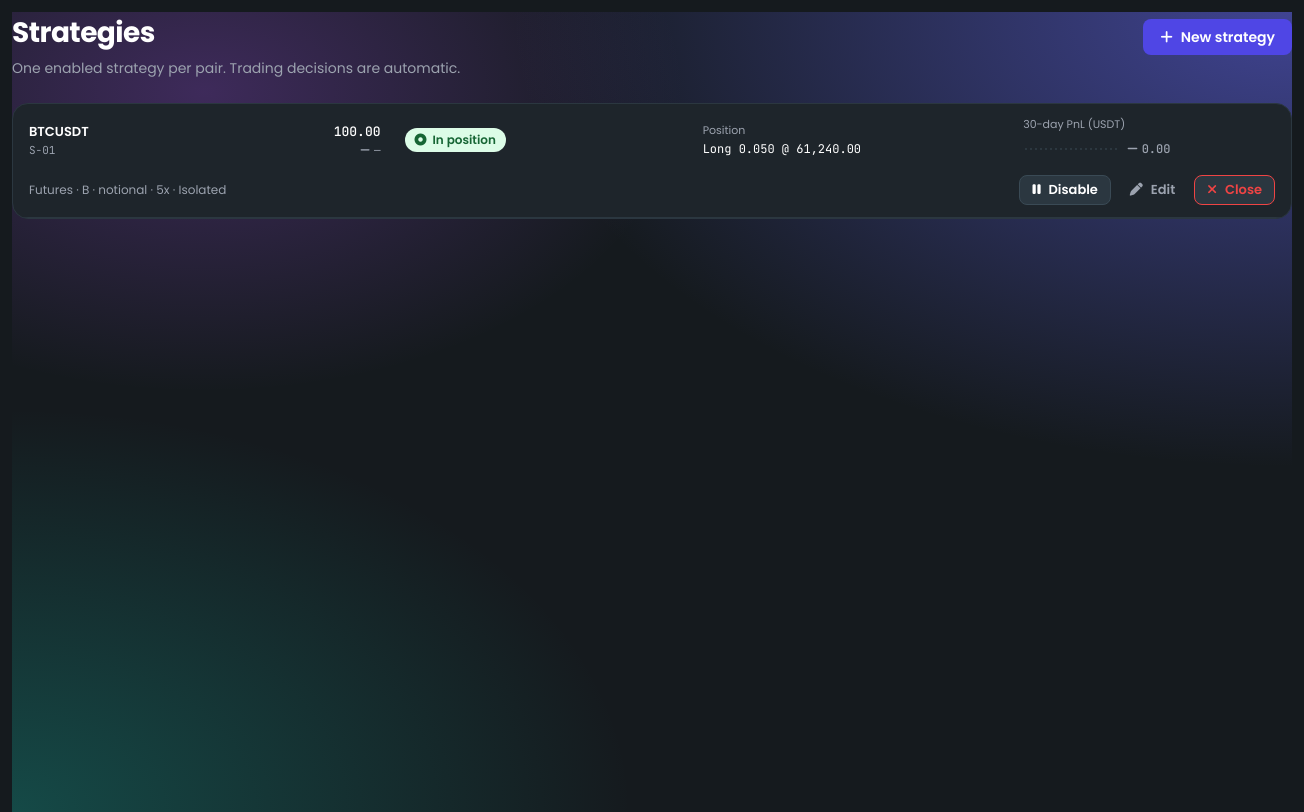
it: Strategies page › disables an enabled strategy that still has a position
Click the button "Disable" at {"x": 1065, "y": 190}, box [1019,174,1111,204]
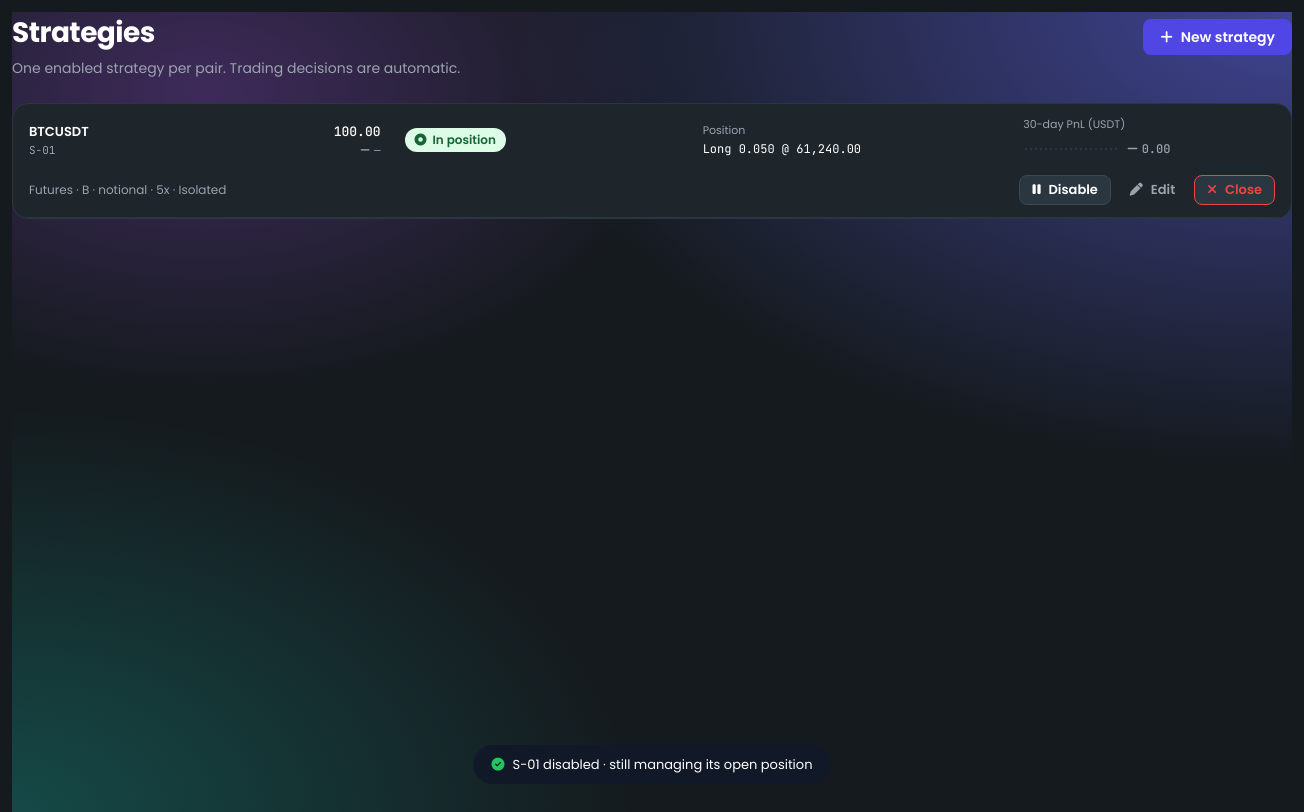
Check: the text "S-01 disabled · still managing its open position" is shown, box [474,744,830,784]
